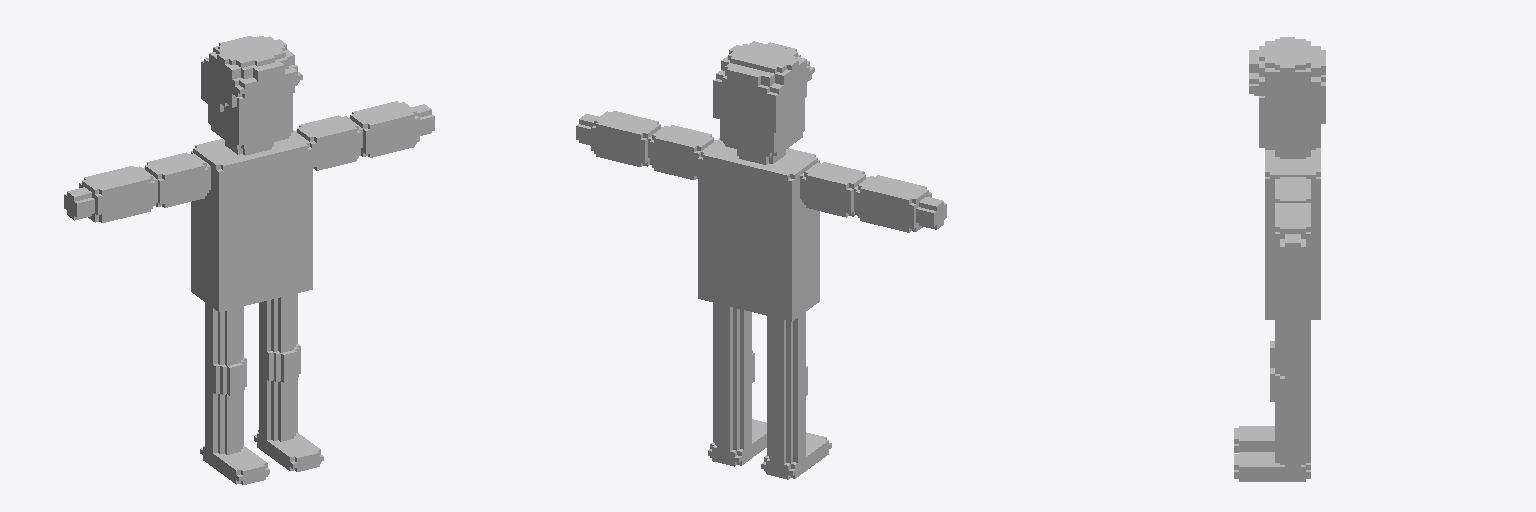
File: Vancour Fan.obj
3 renders of one model, left to right at view 1: azimuth 30°, elevation 25°; view 2: azimuth 150°, elevation 25°; view 3: azimuth 270°, elevation 25°, orthographic.
Size of the model in its own units: 80 by 87 by 18.